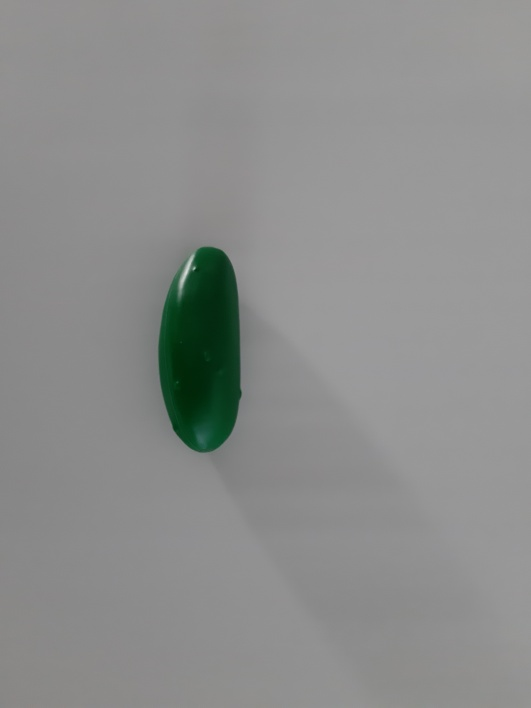cucumber: (129, 233, 283, 462)
